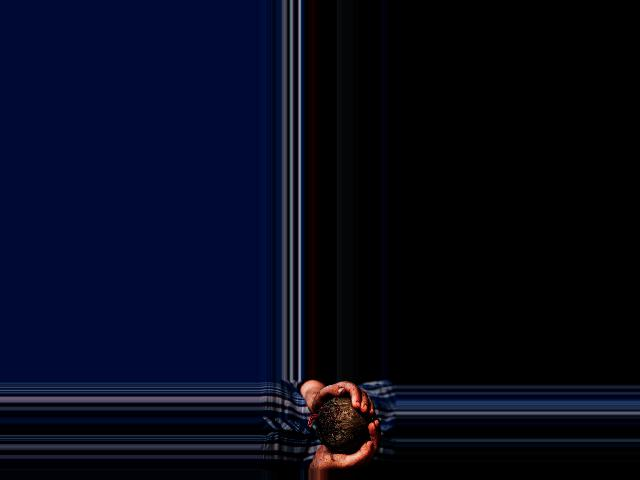beet: (306, 397, 369, 452)
